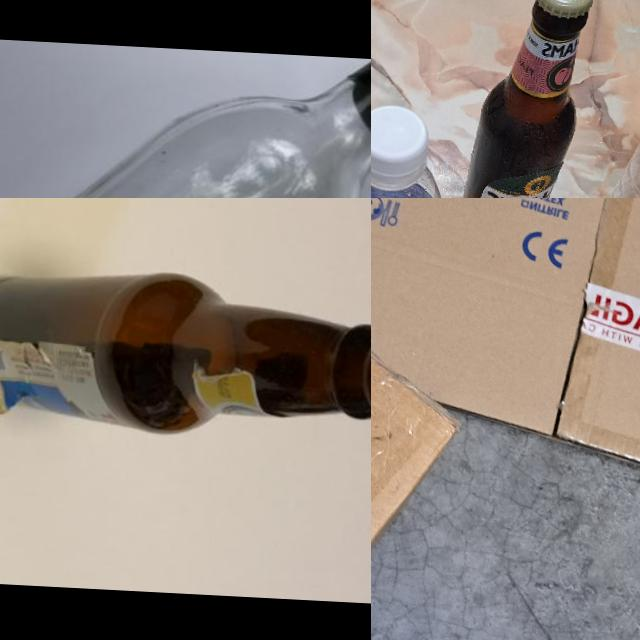garrafa de vidro: (0, 257, 371, 448), (0, 39, 371, 198), (457, 0, 596, 198)
garrafa plástica: (592, 71, 640, 198)
papelão: (371, 198, 640, 469), (371, 212, 464, 640)
tampa plástica: (371, 104, 429, 188)
